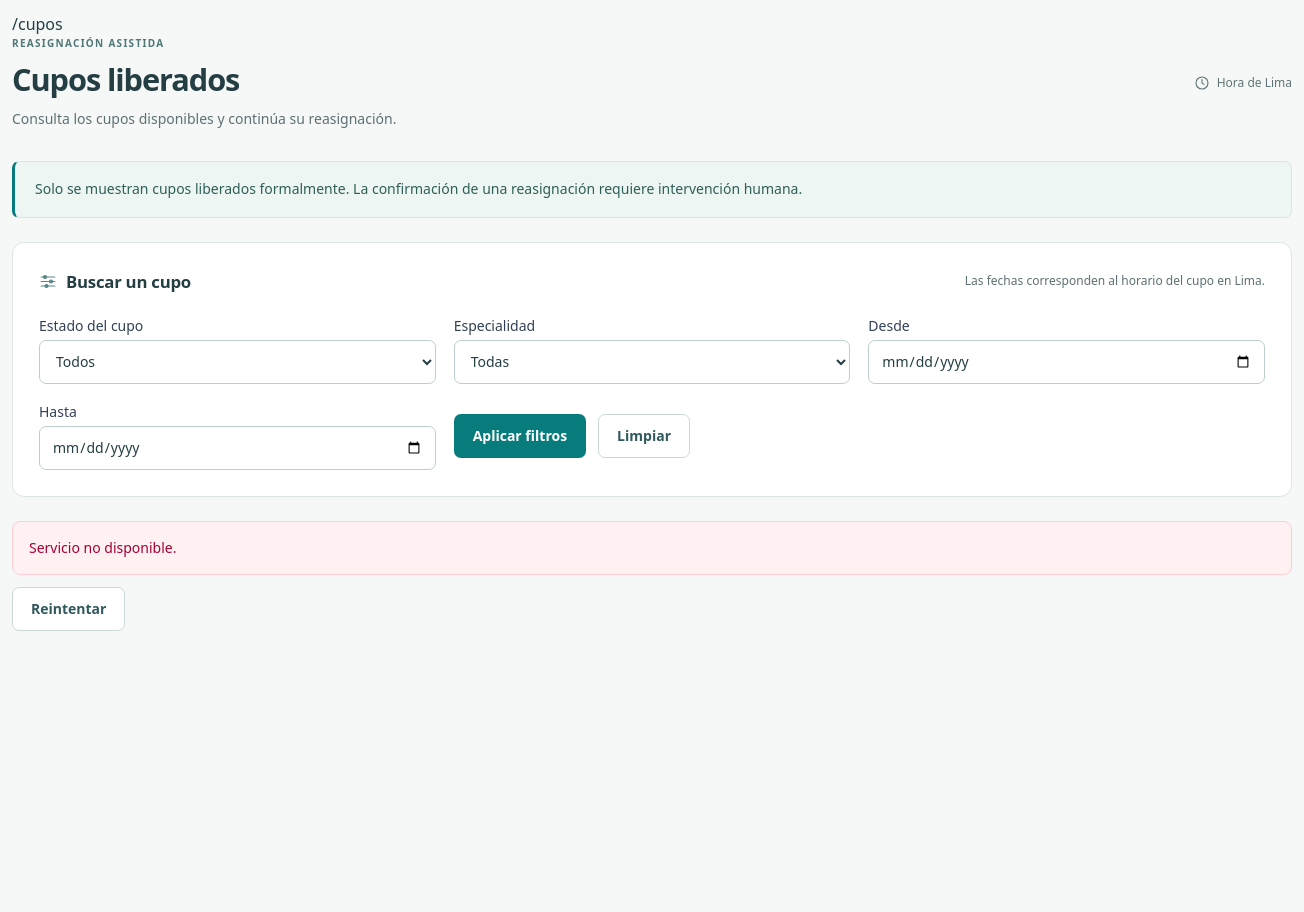
Test: Cupos liberados M06-V02: consulta y permisos (RF-073, RNF-028) › muestra mensaje de error cuando falla la consulta y permite reintentar
Expected: the message reads "Servicio no disponible.", [29, 538, 176, 557]
Step 1. Click the button "Reintentar" → x=69, y=609, box [12, 587, 125, 631]
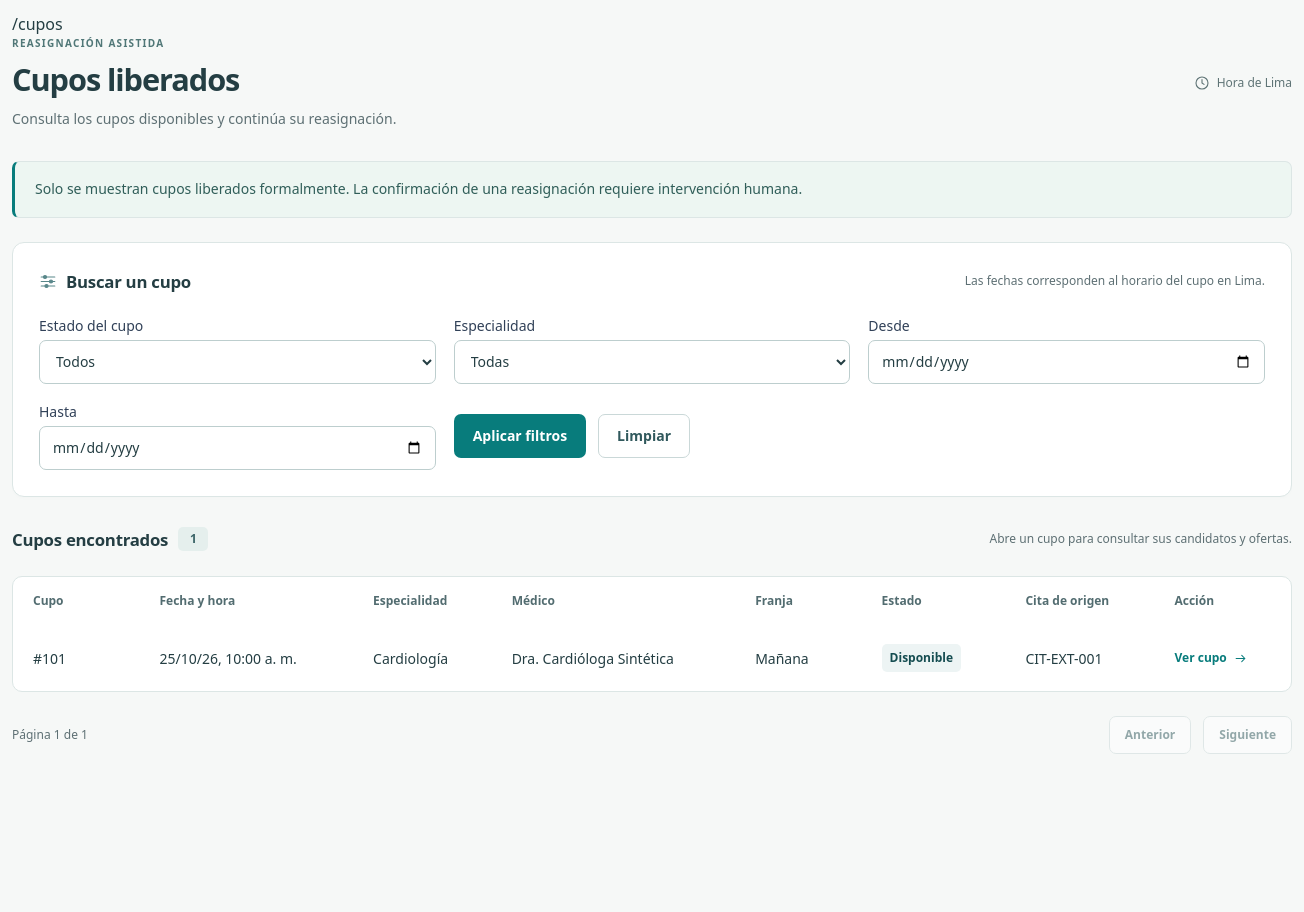
Now the text "#101" is shown, box [13, 625, 140, 691]
